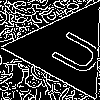U: (40, 24, 100, 79)
